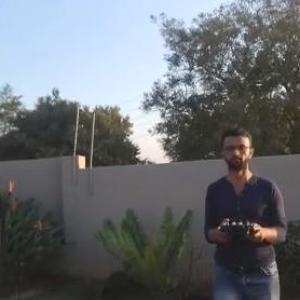follow: (201, 123, 292, 299)
